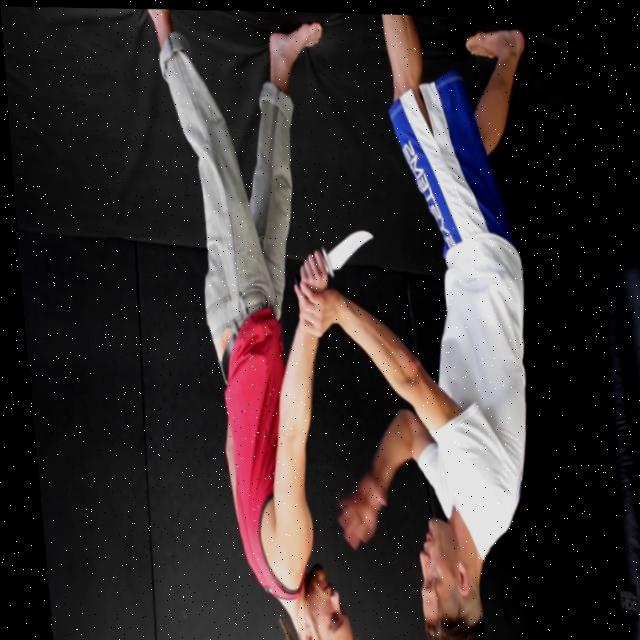knife: (315, 224, 373, 276)
